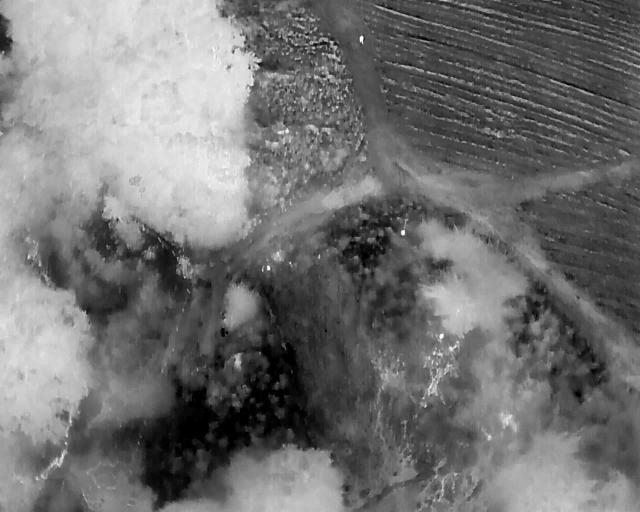person: (359, 35, 363, 43)
